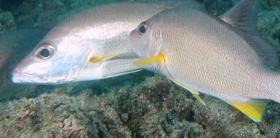Lutjanidae -Snappers-: (9, 0, 276, 89), (123, 9, 280, 138)
